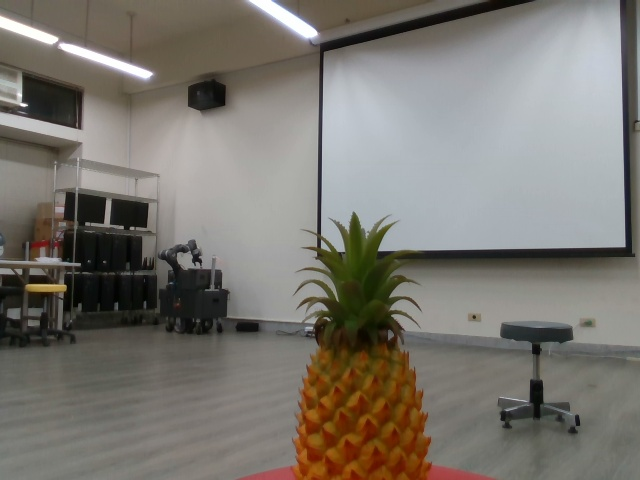pineapple: (288, 208, 437, 480)
